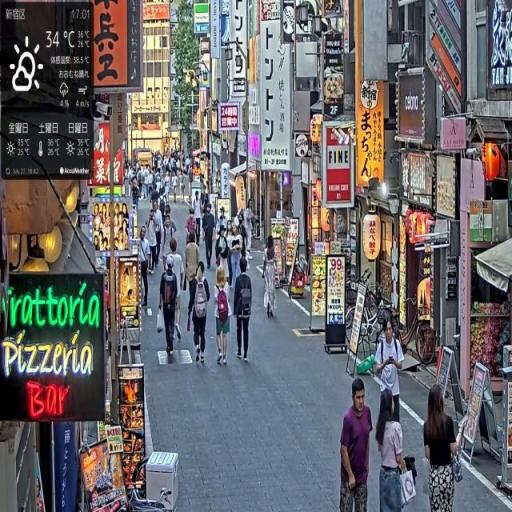person: (424, 382, 465, 512), (375, 398, 418, 512), (339, 378, 373, 512), (376, 319, 406, 420), (189, 262, 212, 367), (233, 256, 255, 363), (159, 257, 181, 360), (213, 265, 233, 366), (263, 234, 280, 320), (139, 228, 154, 315), (147, 205, 163, 275), (203, 203, 217, 272)
